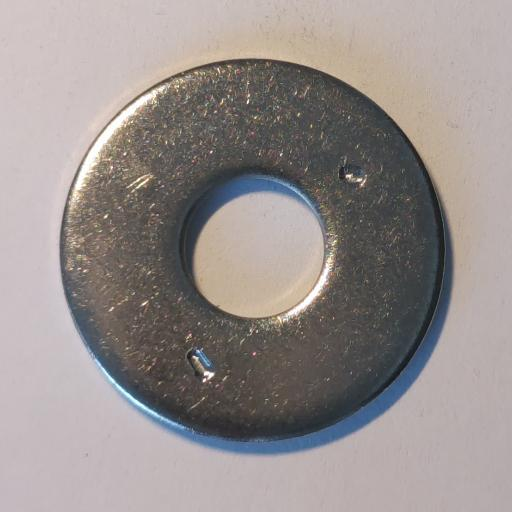circular_cavity: (186, 347, 217, 384), (339, 163, 368, 187)
